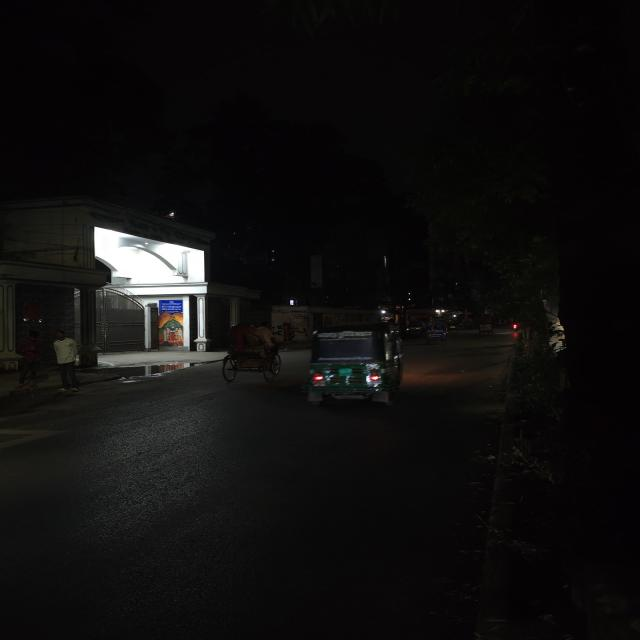cng: (299, 321, 408, 412)
pedestrian: (49, 327, 83, 397), (13, 327, 45, 393)
rickshaw: (217, 321, 288, 385), (421, 315, 453, 345), (409, 316, 433, 340), (477, 317, 495, 335)
